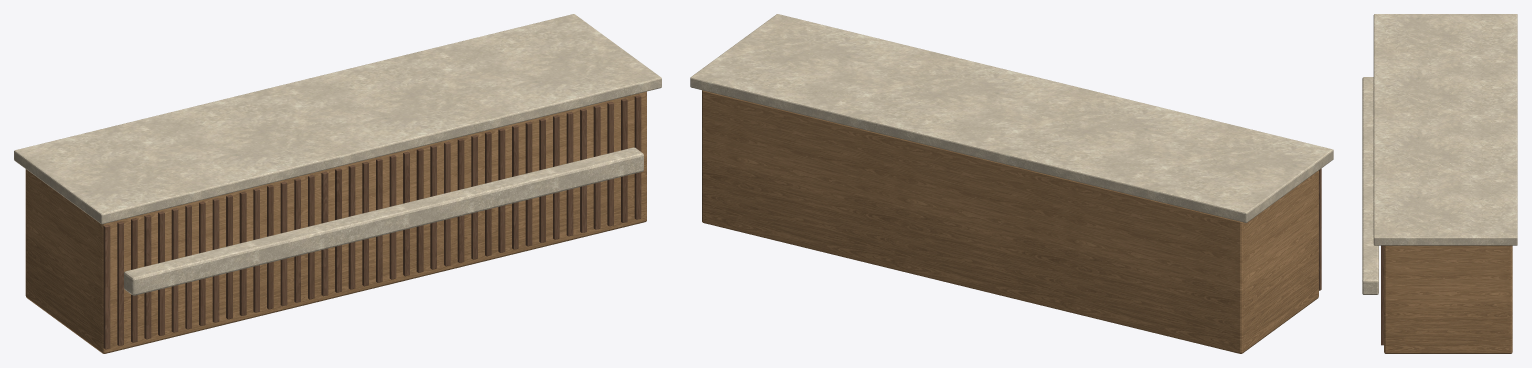
Rendered from hiperreal.glb.
3 renders of one model, left to right at view 1: azimuth 30°, elevation 25°; view 2: azimuth 150°, elevation 25°; view 3: azimuth 270°, elevation 25°, orthographic. The views are drawn at different scales.
Parts seen in each view (by area): view 1: starbucksCounter_41, starbucksCounter_0, starbucksCounter_42, starbucksCounter_1, starbucksCounter_2, starbucksCounter_40, starbucksCounter_9, starbucksCounter_6, starbucksCounter_4, starbucksCounter_17, starbucksCounter_19, starbucksCounter_22 (+31 smaller); view 2: starbucksCounter_0, starbucksCounter_41; view 3: starbucksCounter_41, starbucksCounter_0, starbucksCounter_42, starbucksCounter_40.
Boxes of the visible parts, <box> form: starbucksCounter_41: <box>14,14,661,224</box>; starbucksCounter_0: <box>25,91,646,353</box>; starbucksCounter_42: <box>124,147,643,295</box>; starbucksCounter_1: <box>103,224,110,349</box>; starbucksCounter_2: <box>117,221,123,345</box>; starbucksCounter_40: <box>634,95,641,219</box>; starbucksCounter_9: <box>212,198,219,322</box>; starbucksCounter_6: <box>171,208,178,332</box>; starbucksCounter_4: <box>144,214,151,339</box>; starbucksCounter_17: <box>321,171,328,296</box>; starbucksCounter_19: <box>348,165,355,289</box>; starbucksCounter_22: <box>389,155,396,279</box>; starbucksCounter_0: <box>702,90,1318,353</box>; starbucksCounter_41: <box>690,14,1333,222</box>; starbucksCounter_41: <box>1373,14,1517,245</box>; starbucksCounter_0: <box>1384,245,1512,353</box>; starbucksCounter_42: <box>1362,77,1378,294</box>; starbucksCounter_40: <box>1381,245,1383,345</box>.
Bounding box in the file's own units: 4.12 × 1.04 × 1.21.
3 materials, 3 textured.
